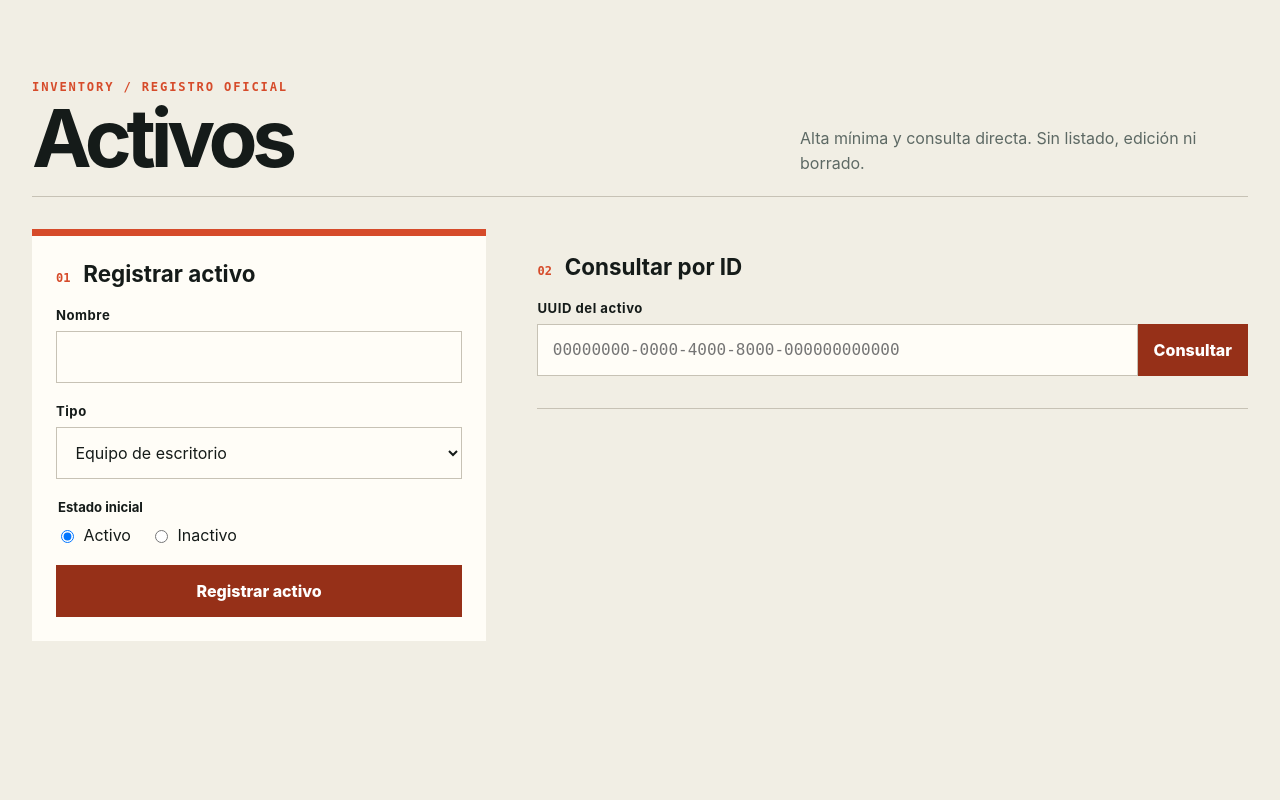
Test: AssetWorkspace › announces authorization failures safely
This screenshot has width=1280, height=800.
Type "Workstation 042" into the field labelled "Nombre" at (259, 357), box [56,331,462,383]
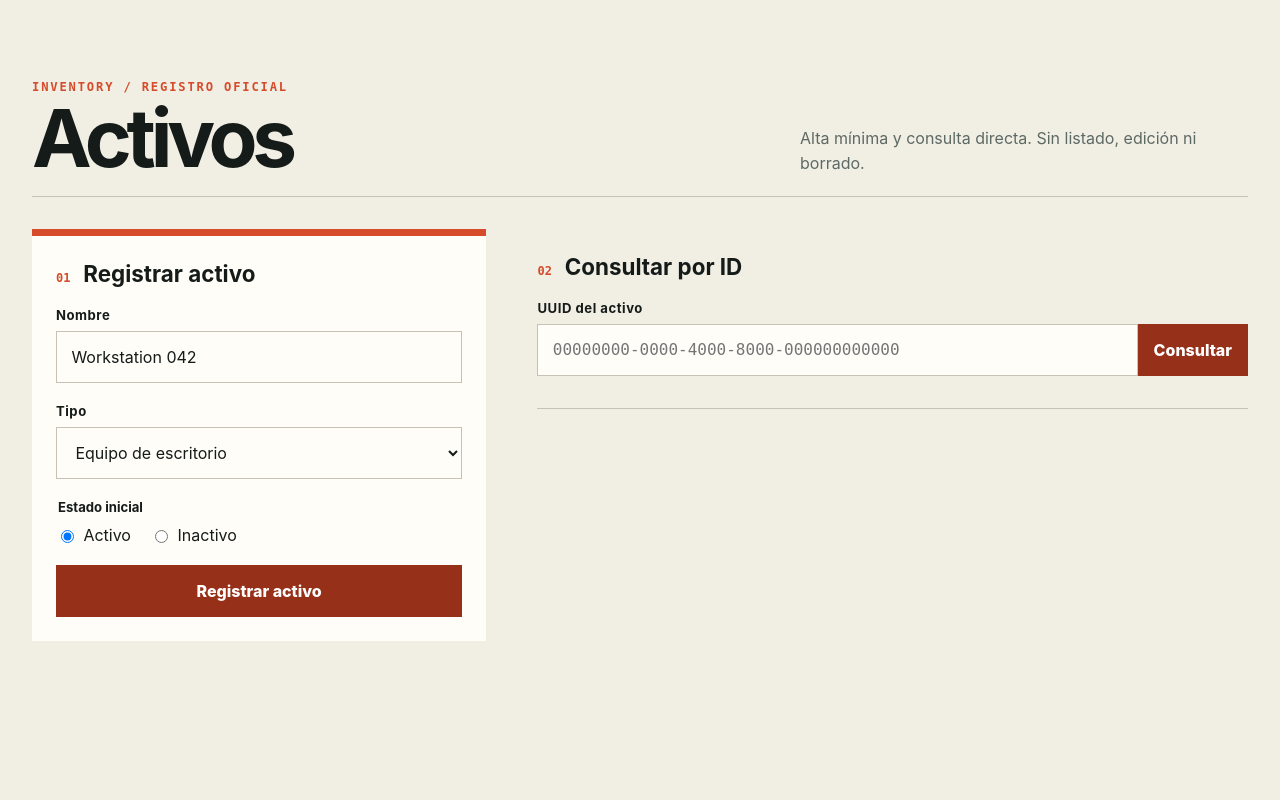
Click the button "Registrar activo" at (259, 591), box [56,565,462,617]
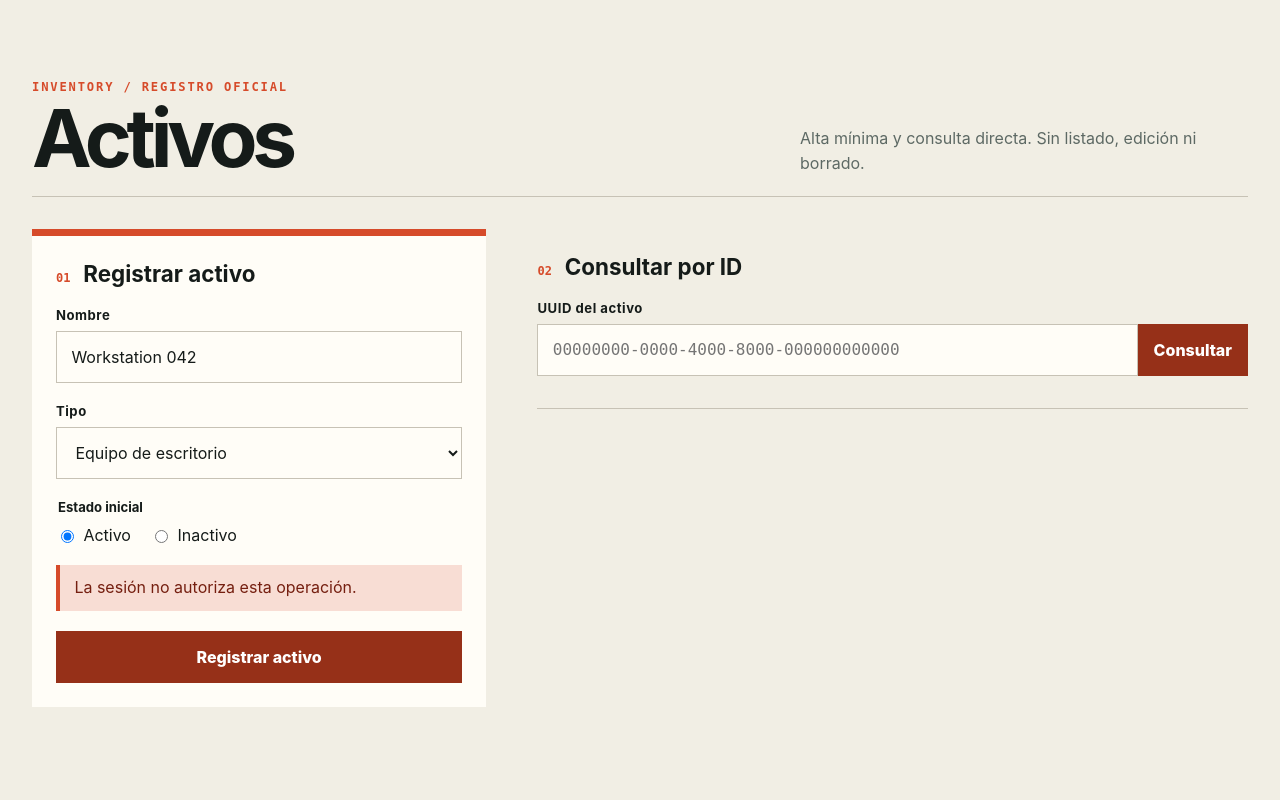
Result: the message shows "no autoriza" at [74,577,357,597]
